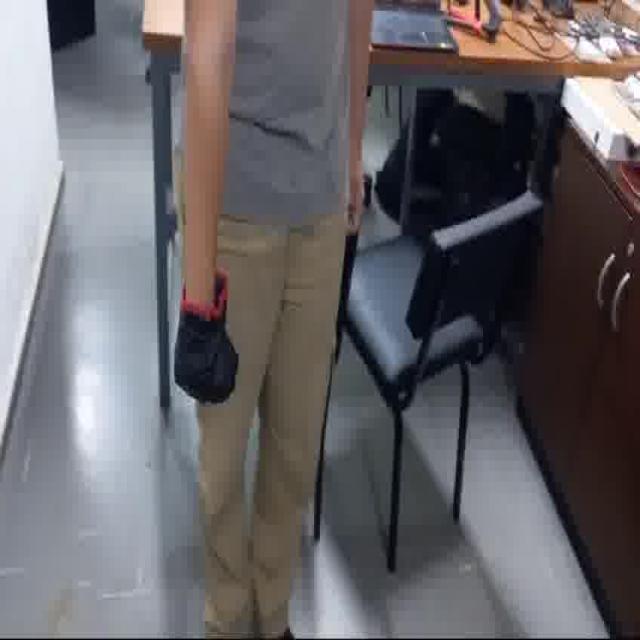Gloves: (174, 268, 239, 407)
